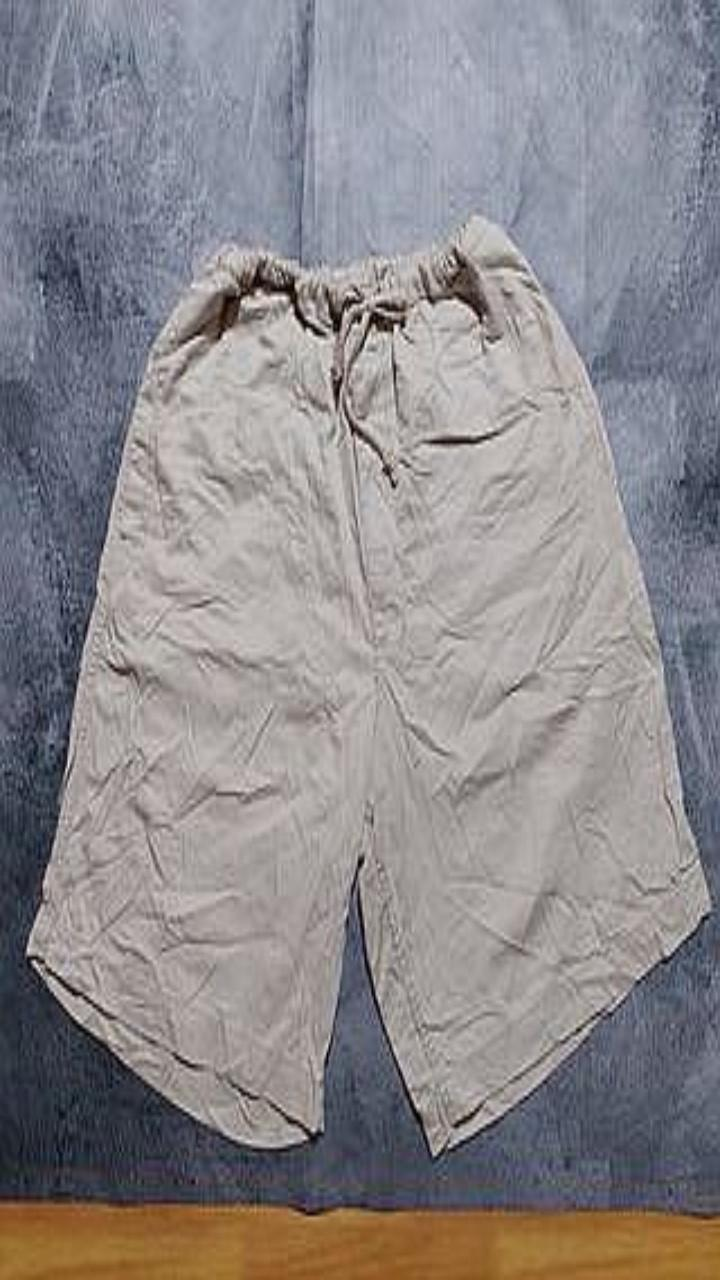Shorts: (26, 213, 710, 1155)
